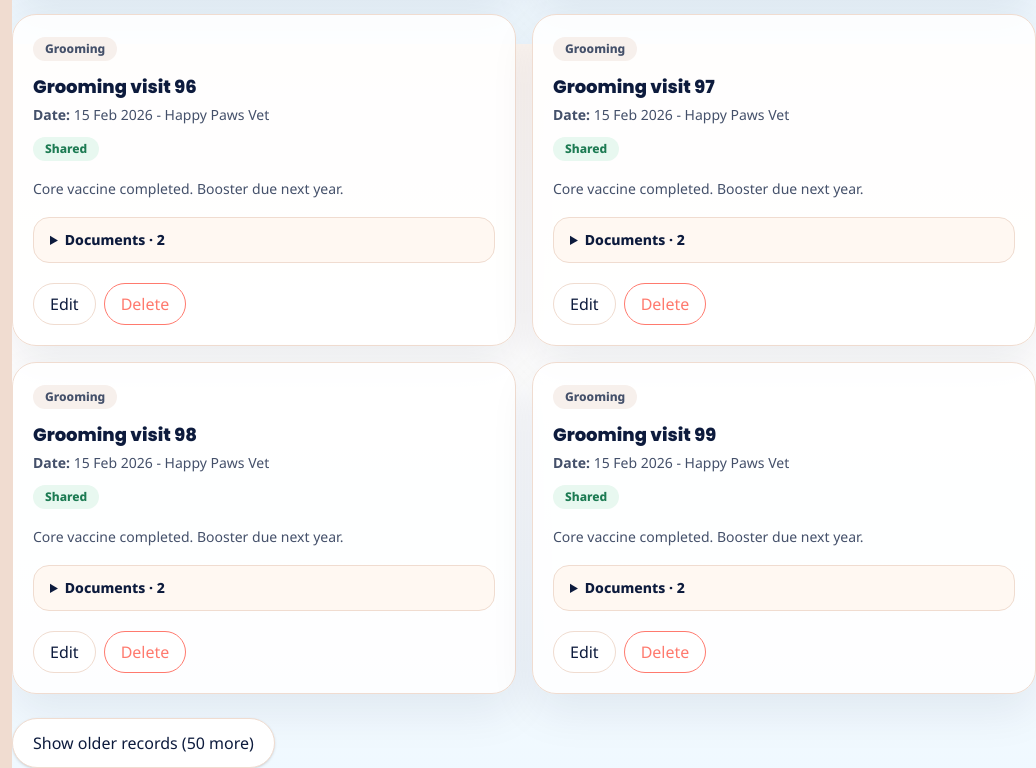
Scenario: Care history beyond its first page › says when older records couldn't be loaded
(page scrolled)
Click the button "Show older records (50 more)": (143, 743) [12,718,275,767]
(page scrolled)
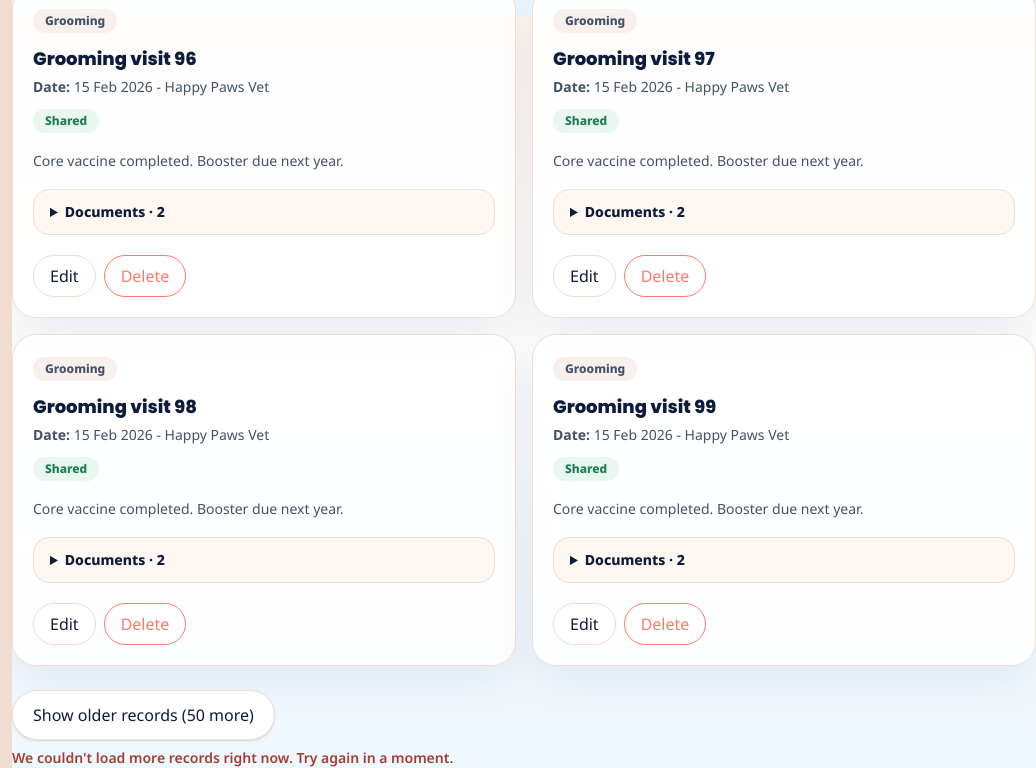
expect the text "We couldn't load more records right now. Try again in a moment." is shown: met, box [12,748,453,767]
